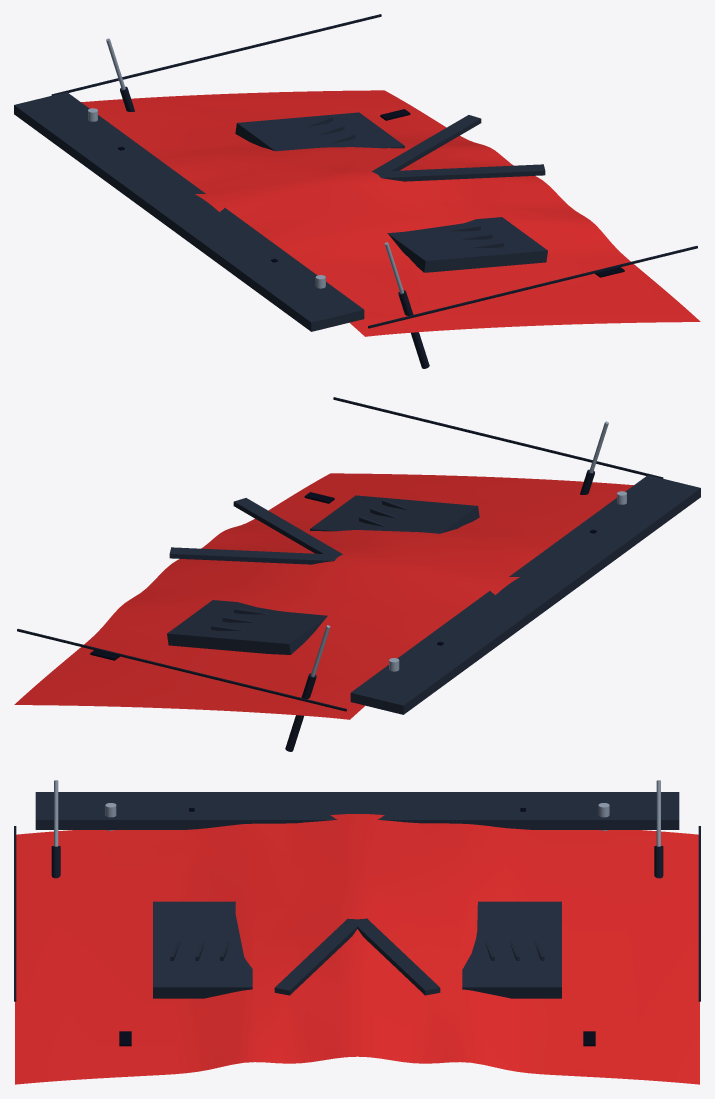
Rendered from ford_escort_rs_cosworth_gt3_hood_closed.glb.
3 views of the same model, one above another, from view 1: azimuth 30°, elevation 25°; view 2: azimuth 150°, elevation 25°; view 3: azimuth 270°, elevation 25° (orthographic). The views are drawn at different scales.
Parts seen in each view (by area): view 1: Block04_ProductionSculptedHood; view 2: Block04_ProductionSculptedHood; view 3: Block04_ProductionSculptedHood.
Part boxes in pixels (box(x1,y1,x2,y2)): Block04_ProductionSculptedHood: box(14, 14, 700, 368); Block04_ProductionSculptedHood: box(14, 397, 700, 751); Block04_ProductionSculptedHood: box(14, 780, 700, 1084).
Bounding box in the file's own units: 0.86 × 0.2967 × 1.24.
